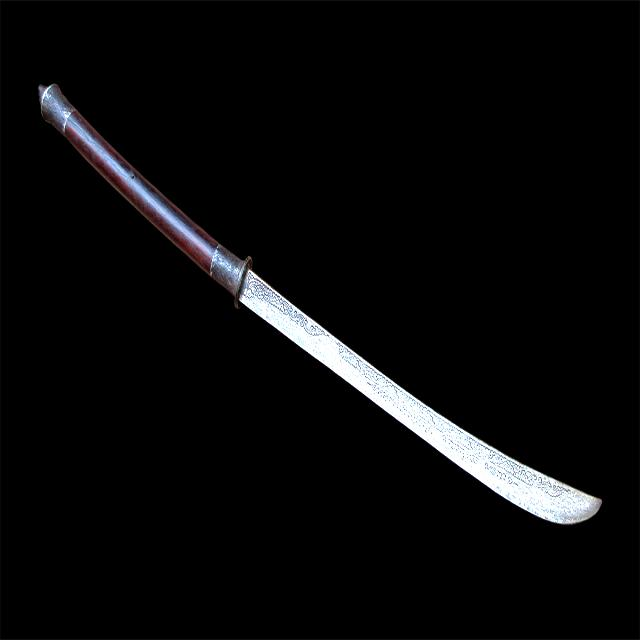long sword: (32, 74, 604, 528)
